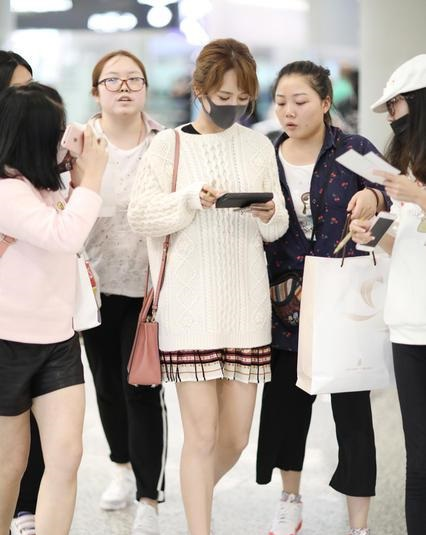face: (276, 77, 319, 139), (100, 57, 143, 116)
face_mask: (207, 68, 248, 127), (385, 89, 422, 149)
